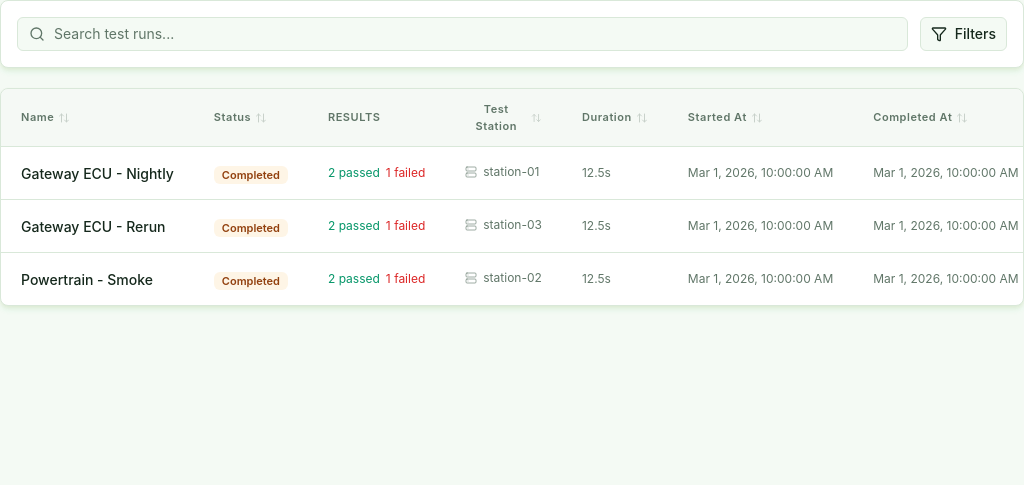
the run list › asks the server for the whole location, not the benches it can see
The image size is (1024, 485).
Check: the link "Gateway ECU - Nightly" is shown, box [21,165,174,182]
Click the button "Filters".
click(963, 34)  # box [920,17,1007,51]
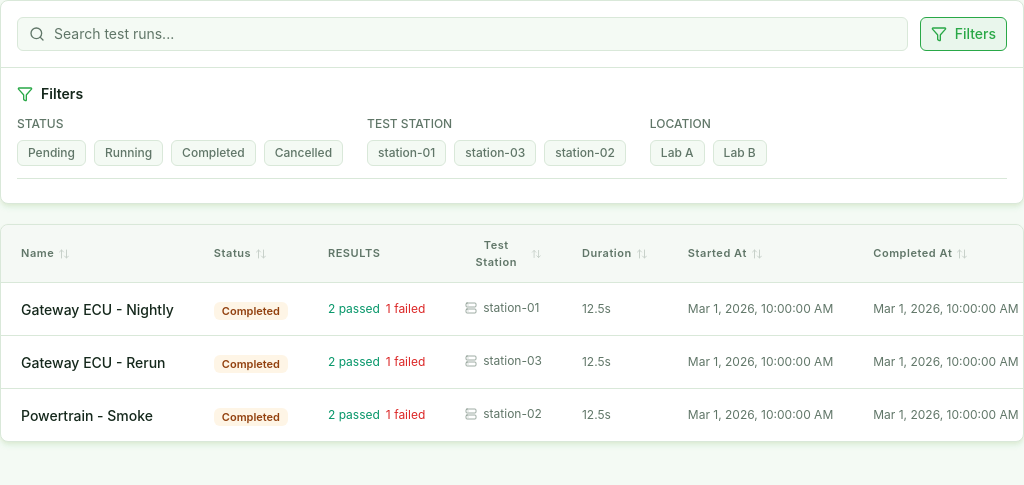
Click the button "Lab A".
click(677, 153)  # box [650,140,705,166]
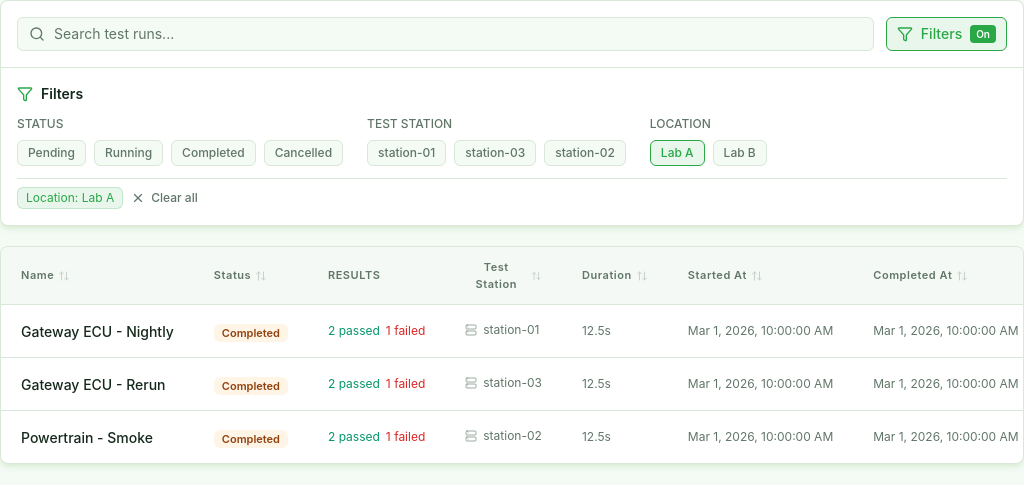
Check: the button "Lab A" is shown, box [650,140,705,166]
Check: the text "Location: Lab A" is shown, box [17,187,123,209]
